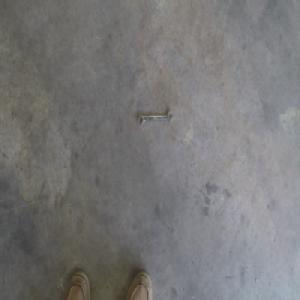Wrench: (137, 110, 173, 127)
